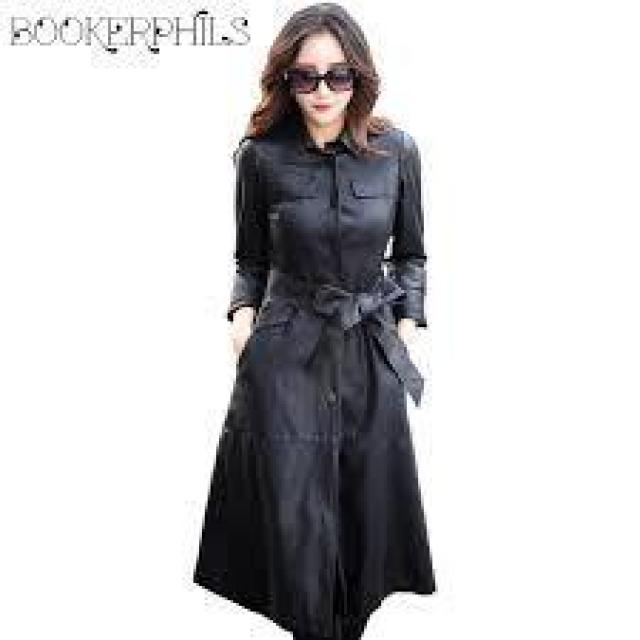dress: (198, 122, 431, 634)
